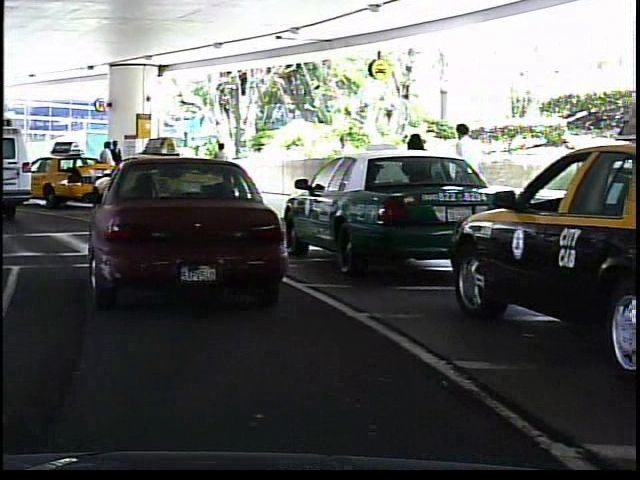person: (445, 116, 493, 231), (399, 124, 437, 231), (328, 126, 357, 205), (209, 138, 233, 190), (96, 141, 114, 193), (110, 137, 125, 193)
